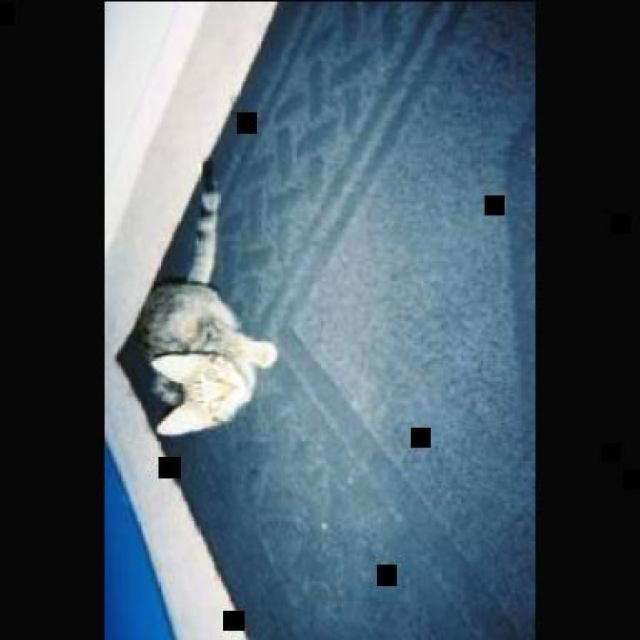unauthorized: (132, 155, 278, 437)
